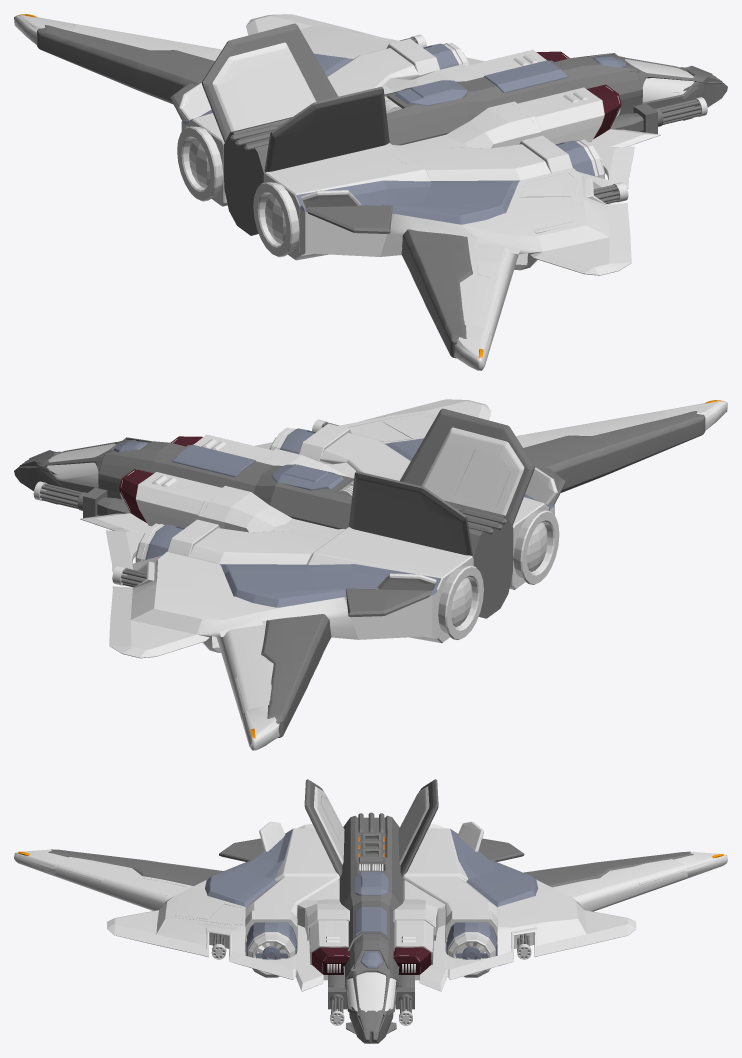
The model's file is BattleSpaceship.fbx.
3 views of the same model, one above another, from view 1: azimuth 30°, elevation 25°; view 2: azimuth 150°, elevation 25°; view 3: azimuth 270°, elevation 25° (orthographic). The views are drawn at different scales.
Parts seen in each view (by area): view 1: pieza_tocha_de_la_2nda_metra (×2), tubo_del_motor1 (×2), ala_posterior (×2), aleron1 (×2), central, tubo_de_la_metra (×2), ala (×2), aleron12, plastico_encima_del_ala, aerodinamico2 (×2), circulo_del_cohete (×2), decorado_morro (+12 smaller); view 2: pieza_tocha_de_la_2nda_metra (×2), tubo_del_motor1 (×2), ala_posterior (×2), aleron1 (×2), central, tubo_de_la_metra (×2), ala (×2), aleron12, plastico_encima_del_ala, aerodinamico2 (×2), circulo_del_cohete (×2), decorado_morro (+12 smaller); view 3: ala (×2), tubo_del_motor1 (×2), pieza_tocha_de_la_2nda_metra (×2), plastico_encima_del_ala (×2), tubo_de_la_metra (×2), central, aerodinamico1 (×2), ala_posterior (×2), aerodinamico2 (×2), aleron12 (×2), aleron1 (×2), arriba_de_la_metra (×2) (+11 smaller).
Part boxes in pixels (x1,y1,x2,y2): pieza_tocha_de_la_2nda_metra (×2): [181, 26, 609, 270]; tubo_del_motor1 (×2): [187, 48, 550, 260]; ala_posterior (×2): [37, 25, 472, 358]; aleron1 (×2): [202, 23, 389, 172]; central: [223, 60, 622, 235]; tubo_de_la_metra (×2): [382, 50, 604, 148]; ala (×2): [14, 14, 518, 370]; aleron12: [212, 42, 316, 131]; plastico_encima_del_ala: [296, 180, 519, 224]; aerodinamico2 (×2): [246, 14, 631, 275]; circulo_del_cohete (×2): [177, 126, 299, 257]; decorado_morro: [554, 53, 703, 114]; pieza_tocha_de_la_2nda_metra (×2): [130, 411, 554, 652]; tubo_del_motor1 (×2): [189, 433, 549, 643]; ala_posterior (×2): [261, 411, 705, 737]; aleron1 (×2): [349, 408, 534, 555]; central: [118, 445, 513, 618]; tubo_de_la_metra (×2): [135, 434, 356, 532]; ala (×2): [216, 400, 727, 750]; aleron12: [421, 427, 524, 515]; plastico_encima_del_ala: [220, 564, 441, 607]; aerodinamico2 (×2): [109, 399, 491, 658]; circulo_del_cohete (×2): [438, 510, 559, 639]; decorado_morro: [43, 437, 185, 498]; ala (×2): [14, 849, 727, 911]; tubo_del_motor1 (×2): [245, 828, 497, 941]; pieza_tocha_de_la_2nda_metra (×2): [156, 879, 586, 955]; plastico_encima_del_ala (×2): [205, 829, 538, 907]; tubo_de_la_metra (×2): [297, 880, 445, 964]; central: [339, 815, 403, 986]; aerodinamico1 (×2): [230, 925, 512, 991]; ala_posterior (×2): [48, 849, 693, 887]; aerodinamico2 (×2): [107, 910, 636, 957]; aleron12 (×2): [314, 786, 429, 864]; aleron1 (×2): [304, 779, 438, 877]; arriba_de_la_metra (×2): [312, 947, 431, 974].
Bounding box in the file's own units: 16.64 × 4.94 × 27.7.
